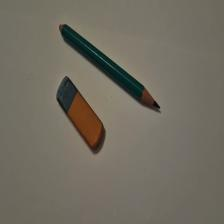eraser: (57, 76, 105, 151)
pencil: (60, 24, 161, 110)
